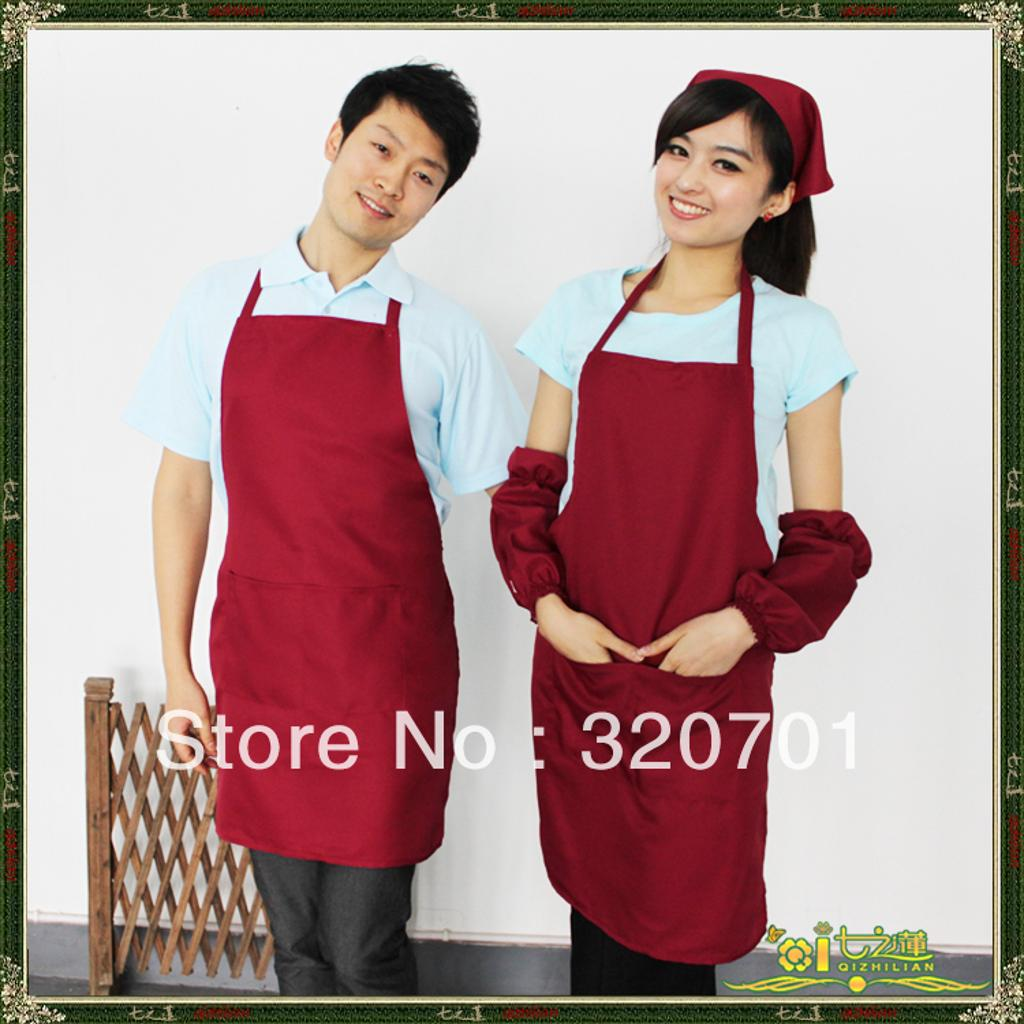face: (326, 100, 456, 244), (656, 108, 774, 246)
